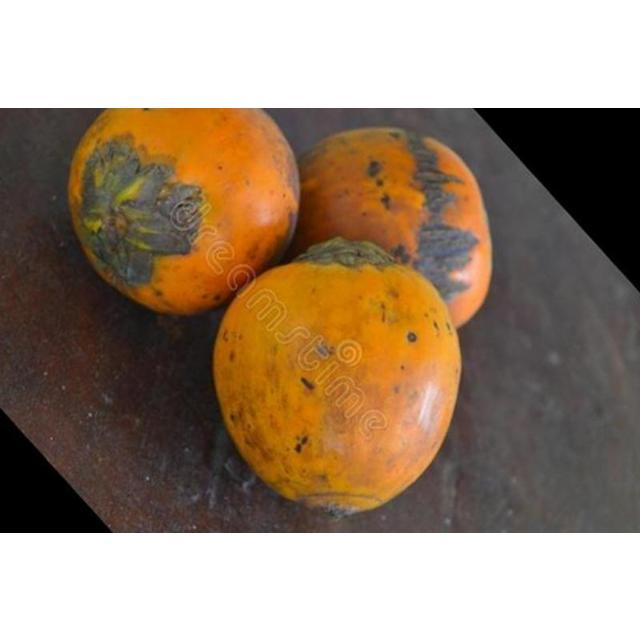good: (211, 237, 462, 513), (66, 107, 302, 317), (281, 125, 491, 328)
